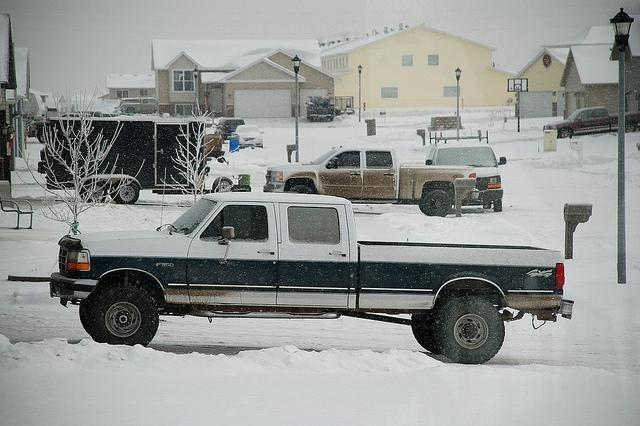car: (425, 143, 506, 191), (231, 125, 264, 149), (212, 118, 246, 138)
truck: (51, 188, 568, 367), (264, 146, 480, 217), (37, 115, 203, 204), (543, 107, 640, 139), (112, 96, 158, 114), (304, 96, 334, 121)
